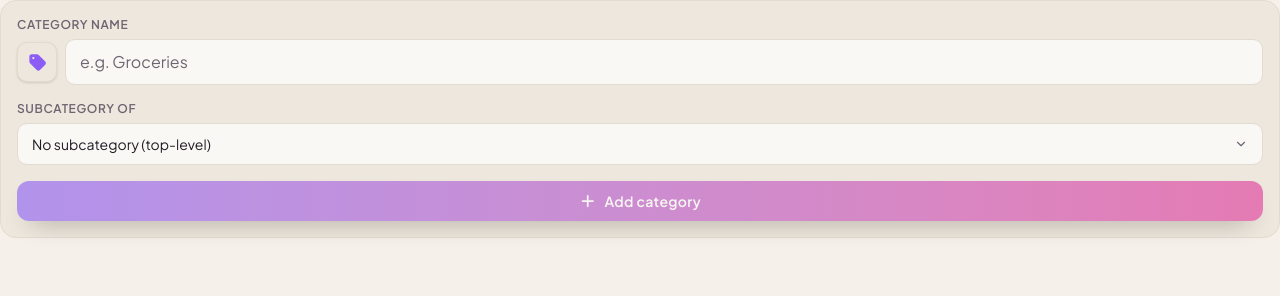
Test: TagCreateMode › only offers top-level tags as parents
Click the button "No subcategory (top-level)". click: (121, 144)
box: [32,134,1248,154]
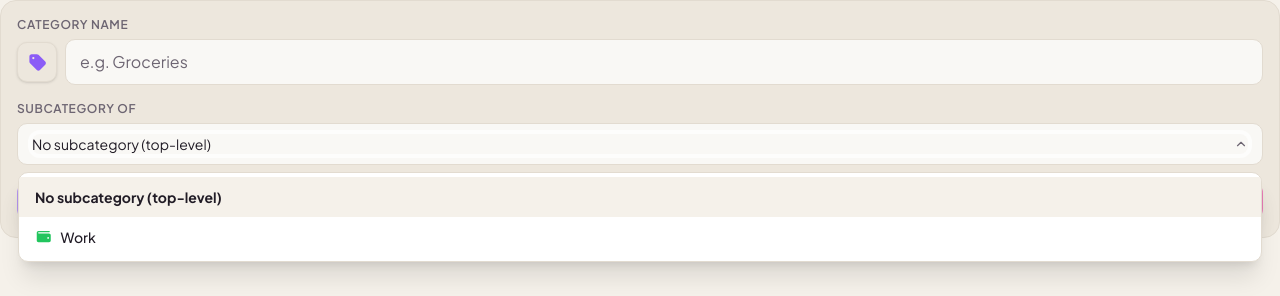
Expected: the button "Work" is shown, [19,217,1261,257]
